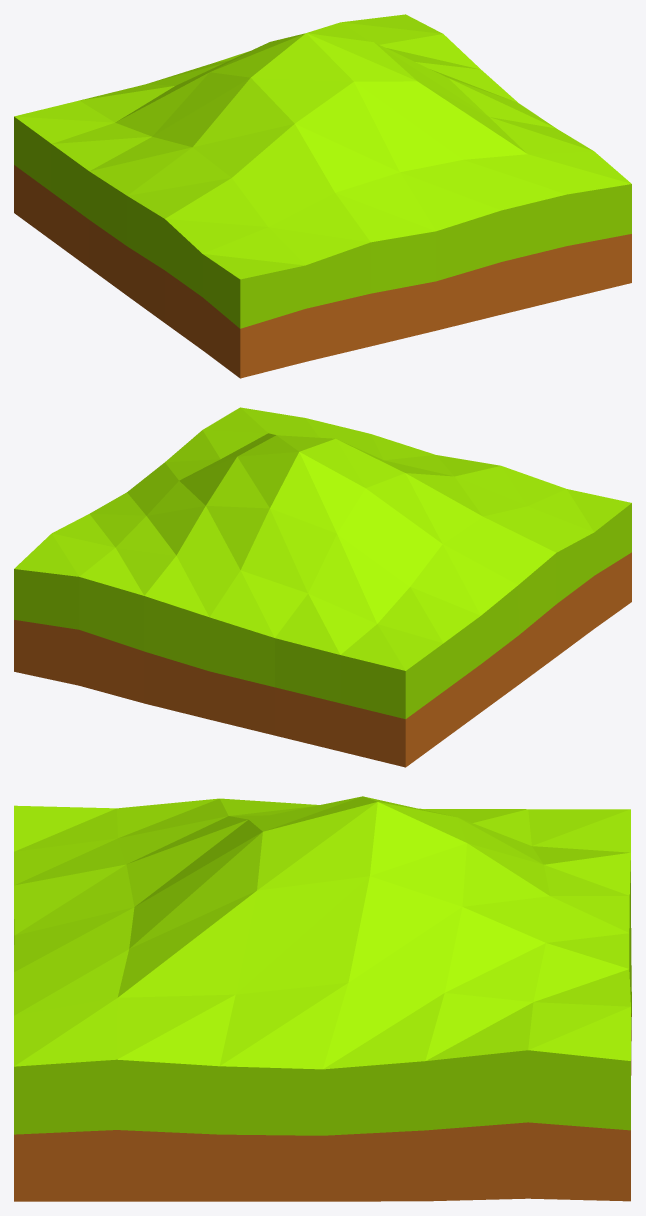
File: COLLINE_roche-vegetal.fbx
3 views of the same model, one above another, from view 1: azimuth 30°, elevation 25°; view 2: azimuth 150°, elevation 25°; view 3: azimuth 270°, elevation 25° (orthographic). The views are drawn at different scales.
Visible parts, largest first — view 1: herbe.011; view 2: herbe.011; view 3: herbe.011.
Boxes of the visible parts, left/top/right/bottom form: herbe.011: left=14, top=14, right=631, bottom=378; herbe.011: left=14, top=407, right=631, bottom=767; herbe.011: left=14, top=796, right=631, bottom=1201.
Bounding box in the file's own units: 5 × 2.43 × 5.01.
